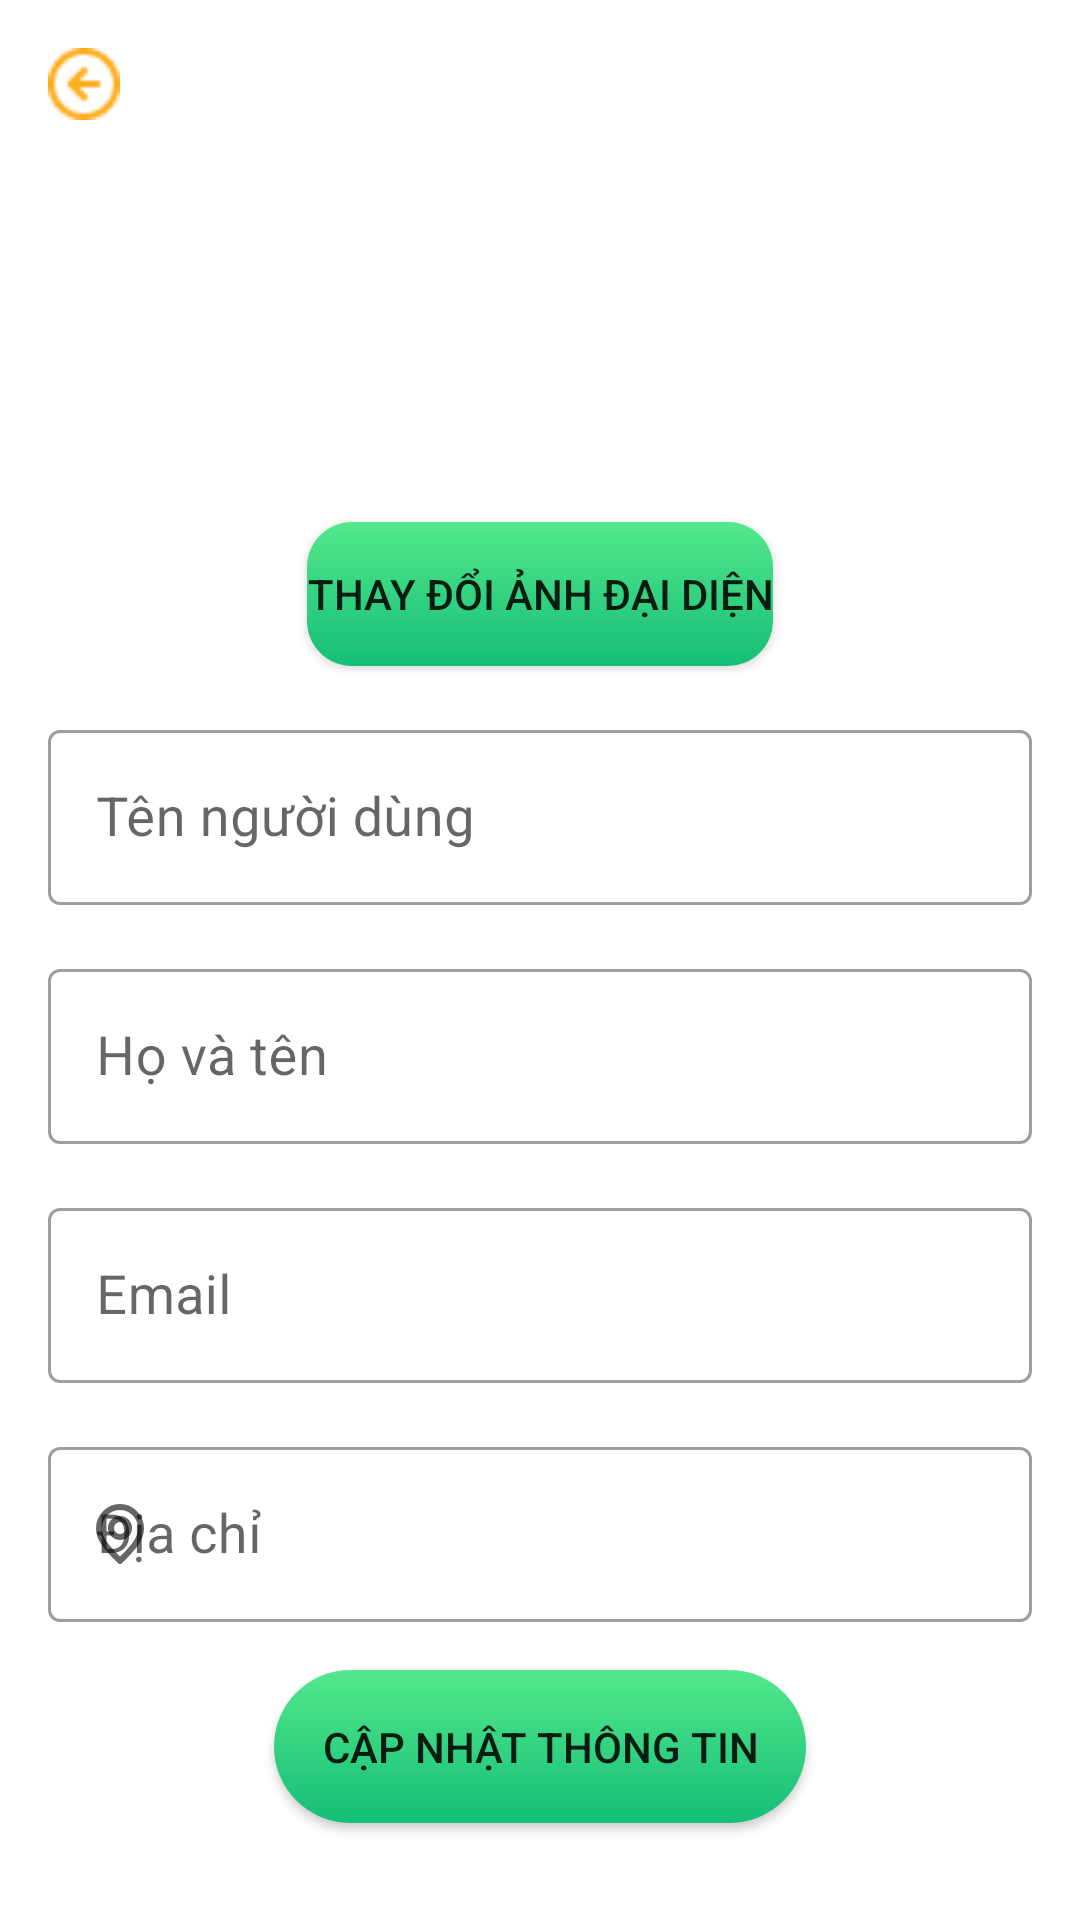

Icons on this 1080x1920 Android screen, each with the point to tap as (x=x, y=y):
Back Arrow: (x=84, y=84)
